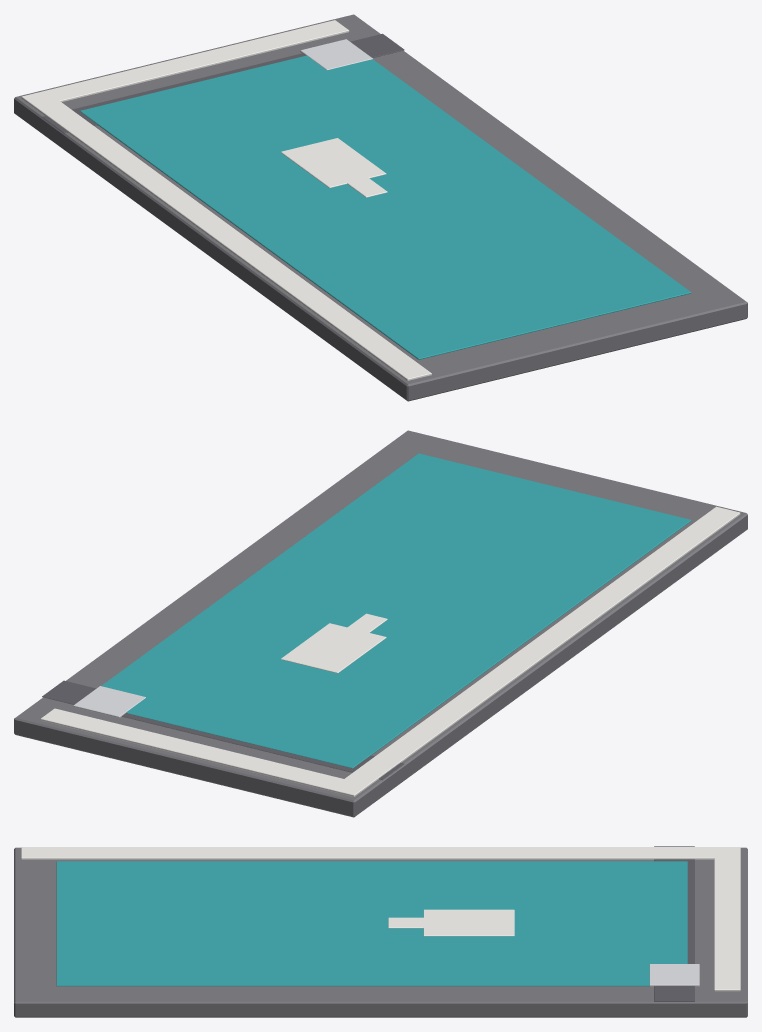
Rendered from motorway-services-and-truck-park-ev-charging-bay-tile-4fcf6f82__35950.glb.
3 renders of one model, top to bottom at view 1: azimuth 30°, elevation 25°; view 2: azimuth 150°, elevation 25°; view 3: azimuth 270°, elevation 25°, orthographic. The views are drawn at different scales.
Visible parts, largest first — view 1: ev-charging-bay-tile; view 2: ev-charging-bay-tile; view 3: ev-charging-bay-tile.
Part boxes in pixels (x1=…): ev-charging-bay-tile: x1=14, y1=14, x2=747, y2=401; ev-charging-bay-tile: x1=14, y1=430, x2=747, y2=817; ev-charging-bay-tile: x1=14, y1=846, x2=747, y2=1017.
Size of the model in its own units: 2.5 by 0.1362 by 5.
